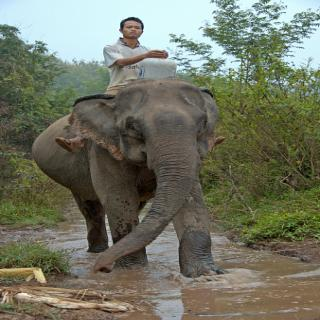Elephant: (23, 75, 236, 289)
